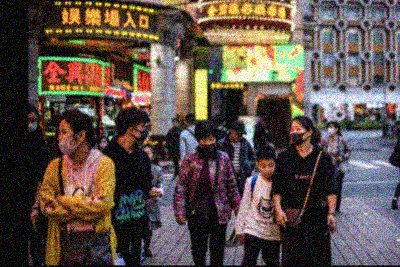mask_weared_incorrect: (57, 125, 78, 155)
with_mask: (198, 132, 217, 154), (289, 123, 309, 143), (131, 123, 149, 144), (29, 114, 38, 131), (326, 123, 337, 136)
without_mask: (259, 160, 277, 176), (233, 130, 243, 141)
